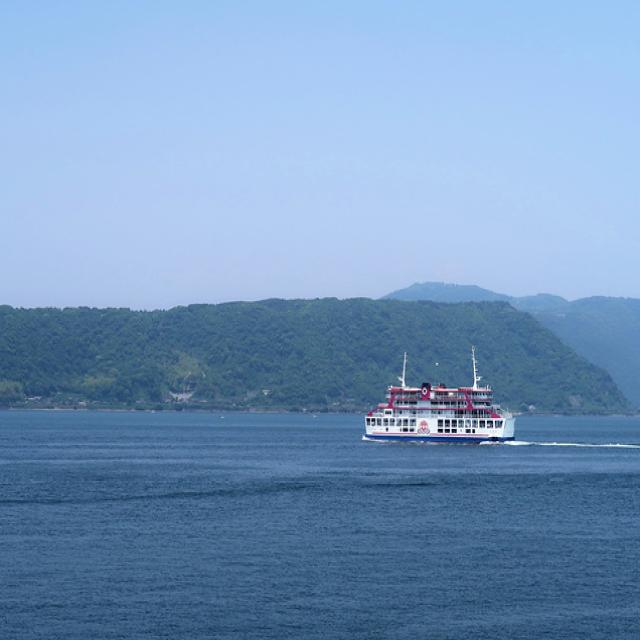houseboat: (358, 362, 521, 450)
